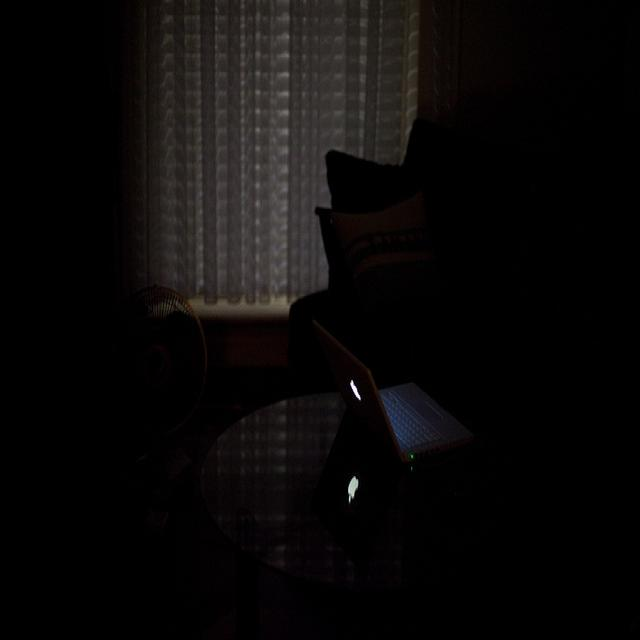Table: (178, 343, 501, 640)
